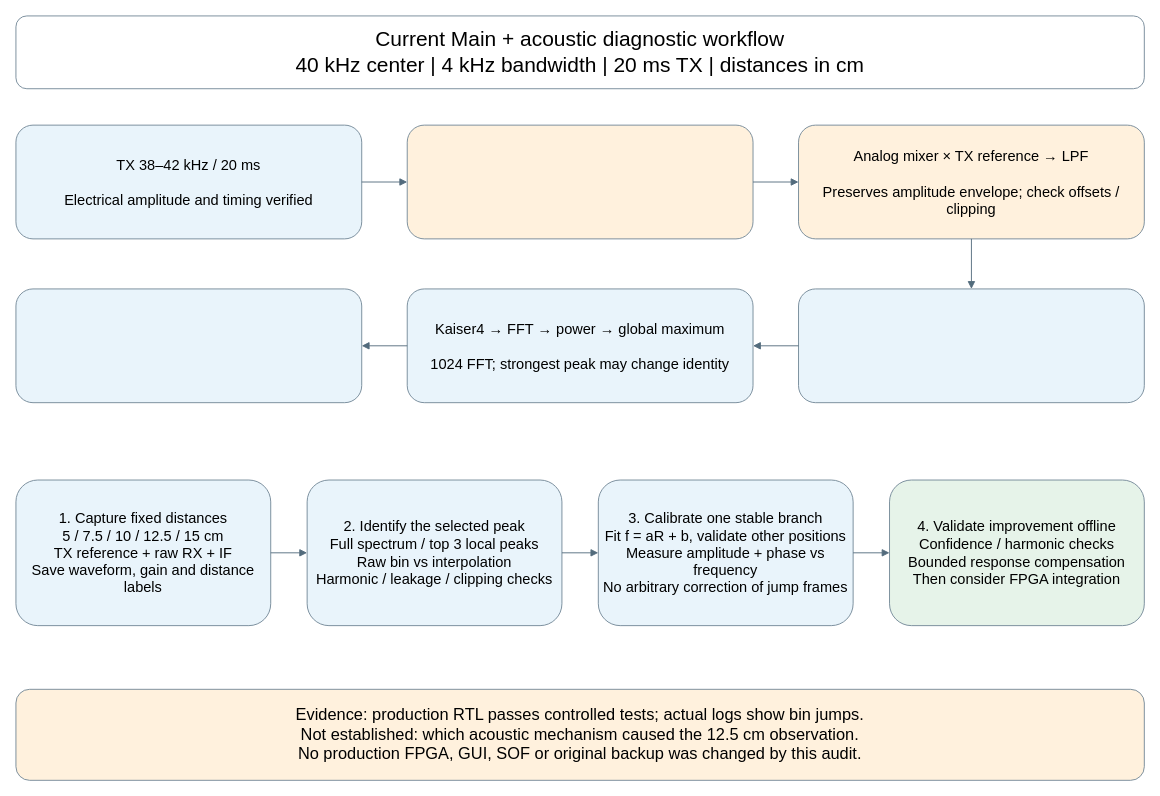
This 1160x796 diagram has some shape labels left out. Here are the shapes that lost their labels. From the top down, the centre of each, then its label:
the point at 579,181: TX transducer → reflector → RX Unknown H(f), geometry, leakage and multipath
the point at 188,345: FPGA peak interpolation → UART ±0.5 bin only; no automatic distance conversion
the point at 971,345: ADC → CIC /32 → mean removal 672 effective samples; 18.77 ms
